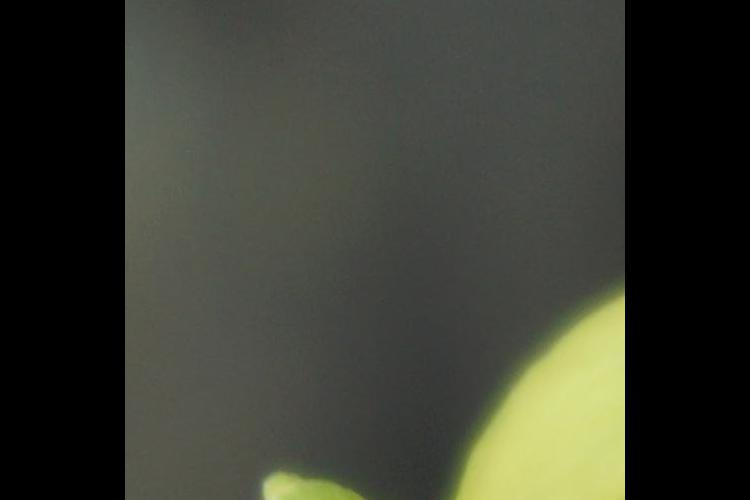bud: (256, 464, 485, 500)
